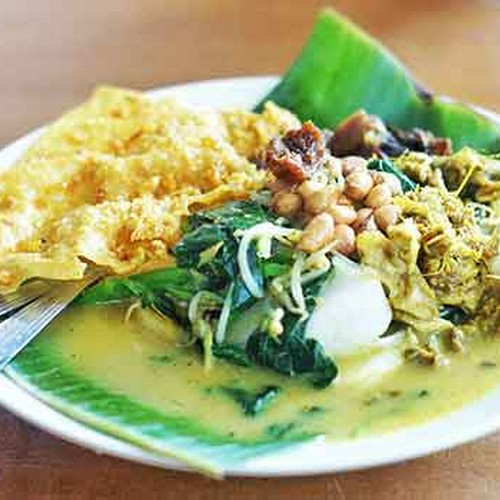tipat blayag: (60, 98, 465, 407)
